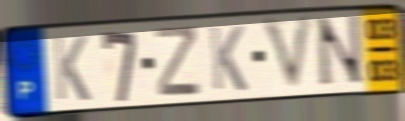7: (99, 28, 138, 104)
K: (50, 34, 92, 103), (207, 24, 249, 93)
N: (314, 12, 368, 91)
V: (259, 12, 317, 96)
Z: (153, 23, 202, 98)
